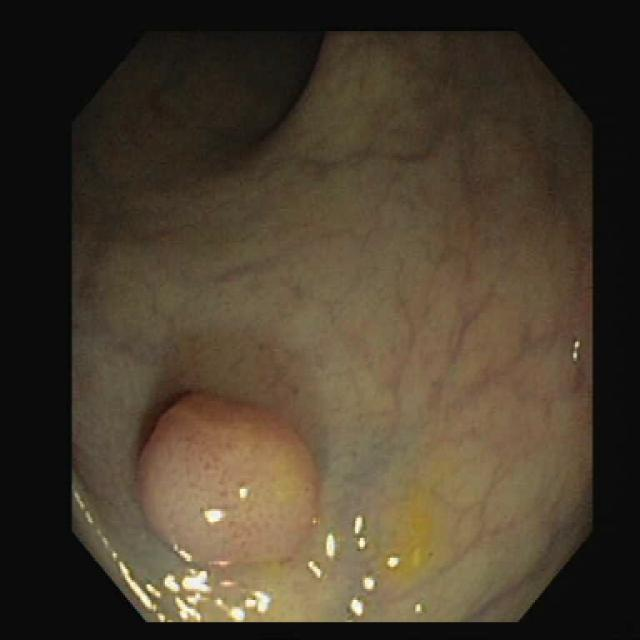tumor: (140, 393, 317, 562)
